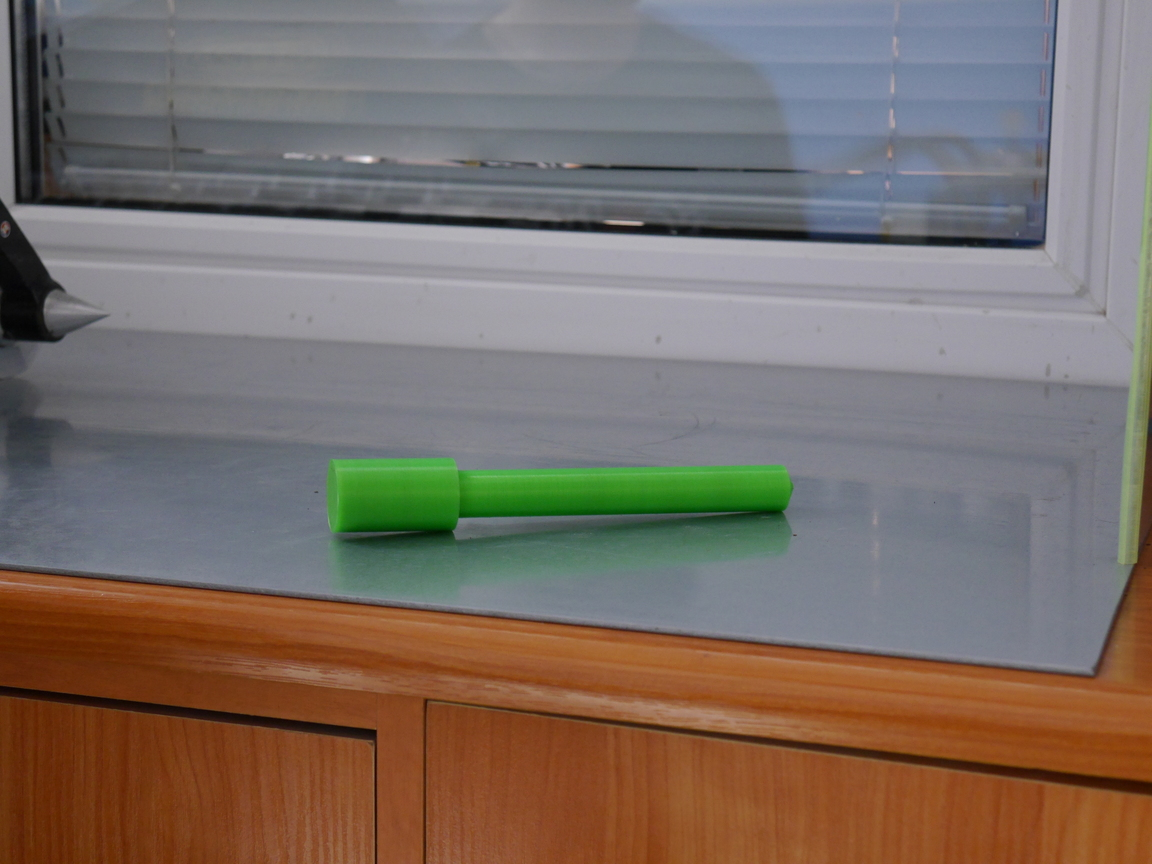cargo_g: (327, 458, 793, 536)
